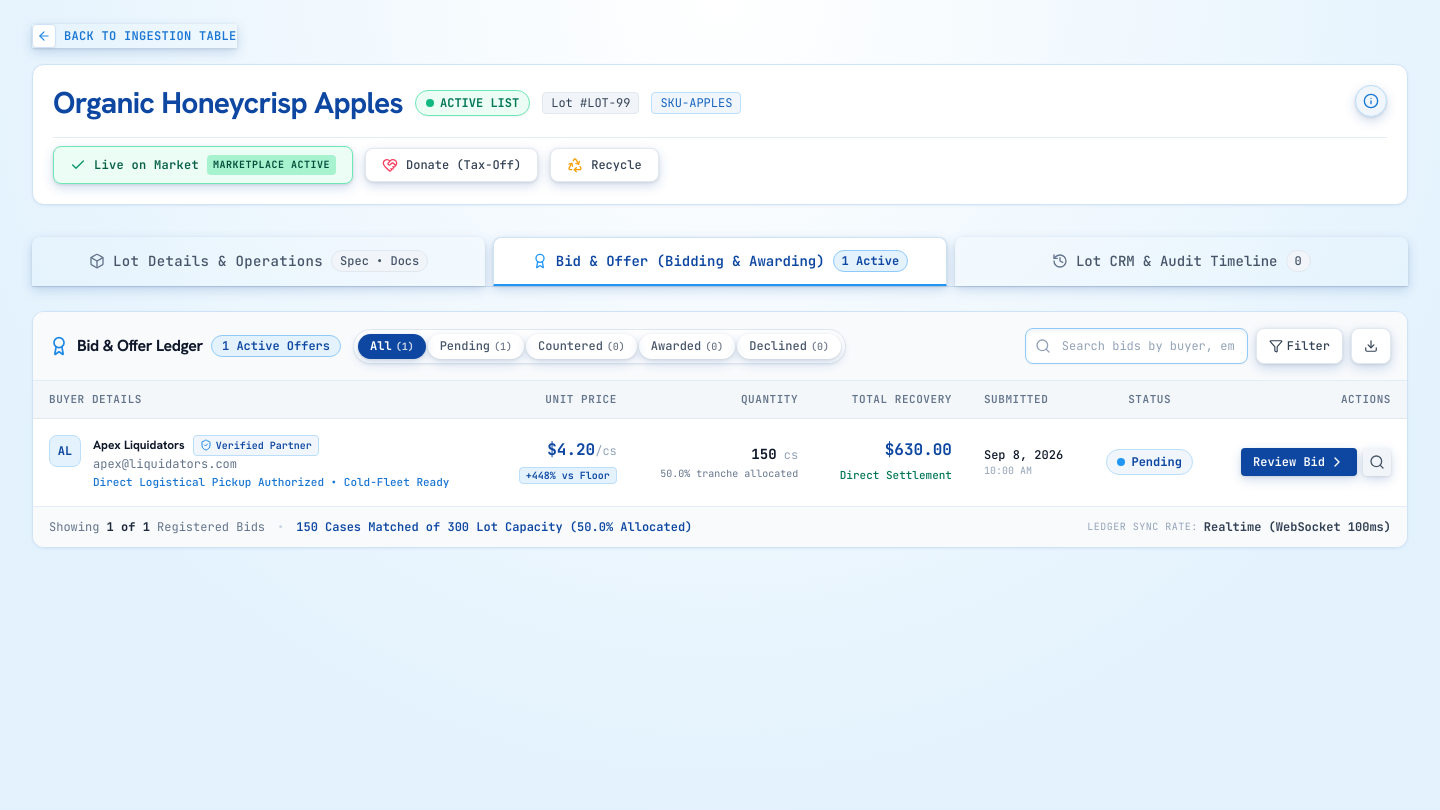
Test: Frontend Seam B: Bid Action Inspector & Decline Flow Integration (Issue #02) › opens Bid Action Inspector modal when bid row is clicked, executes decline flow, shows feedback toast, and updates bid row badge to Declined
This screenshot has width=1440, height=810.
Note: Click bid row to open inspector
Click the text "Apex Liquidators".
click(139, 445)  # box [93,437,185,453]
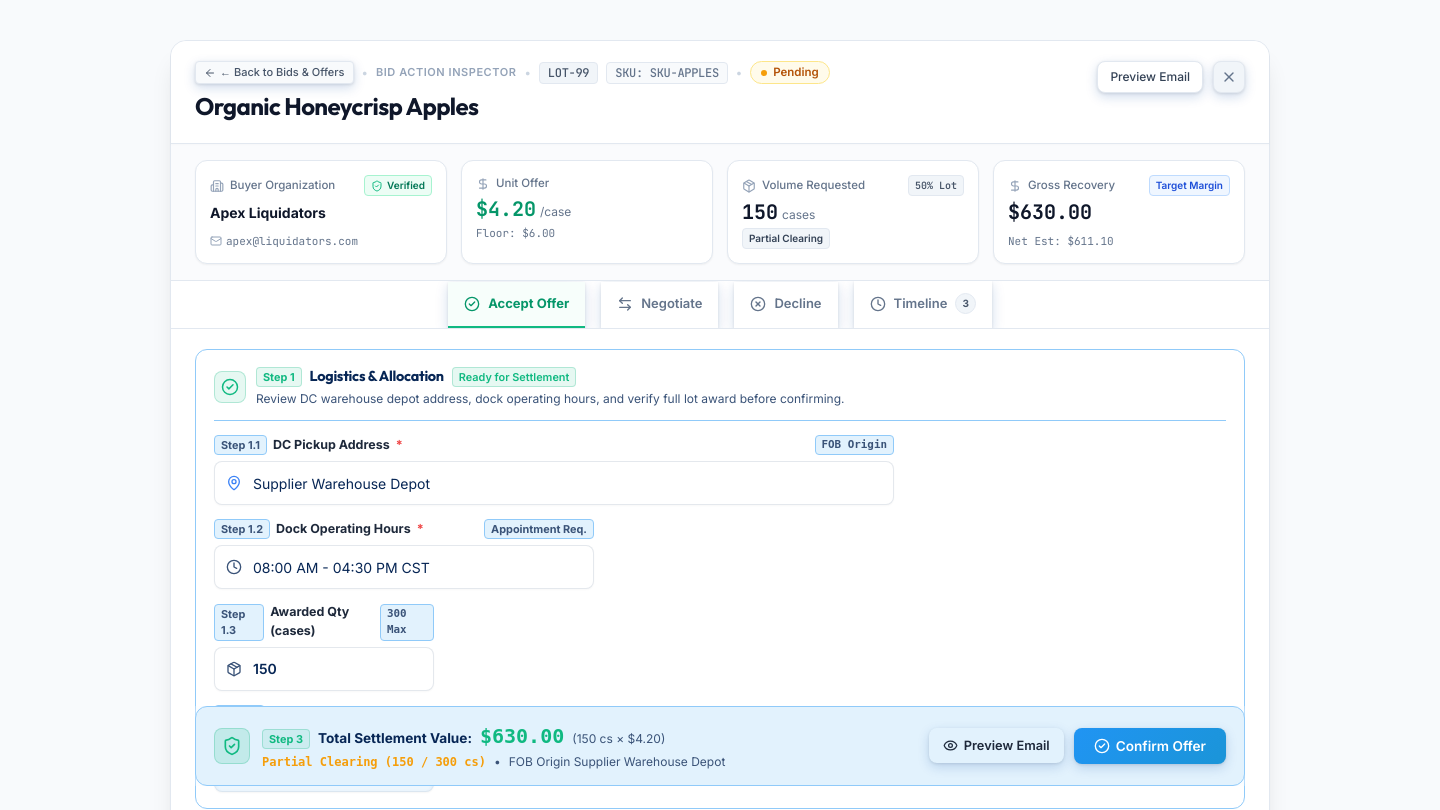
Result: the text "Bid Action Inspector" is shown at [376,64,516,81]
Note: Switch to Decline Offer mode
Click the button with aria-label "decline offer".
click(786, 305)  # box [734,282,838,328]
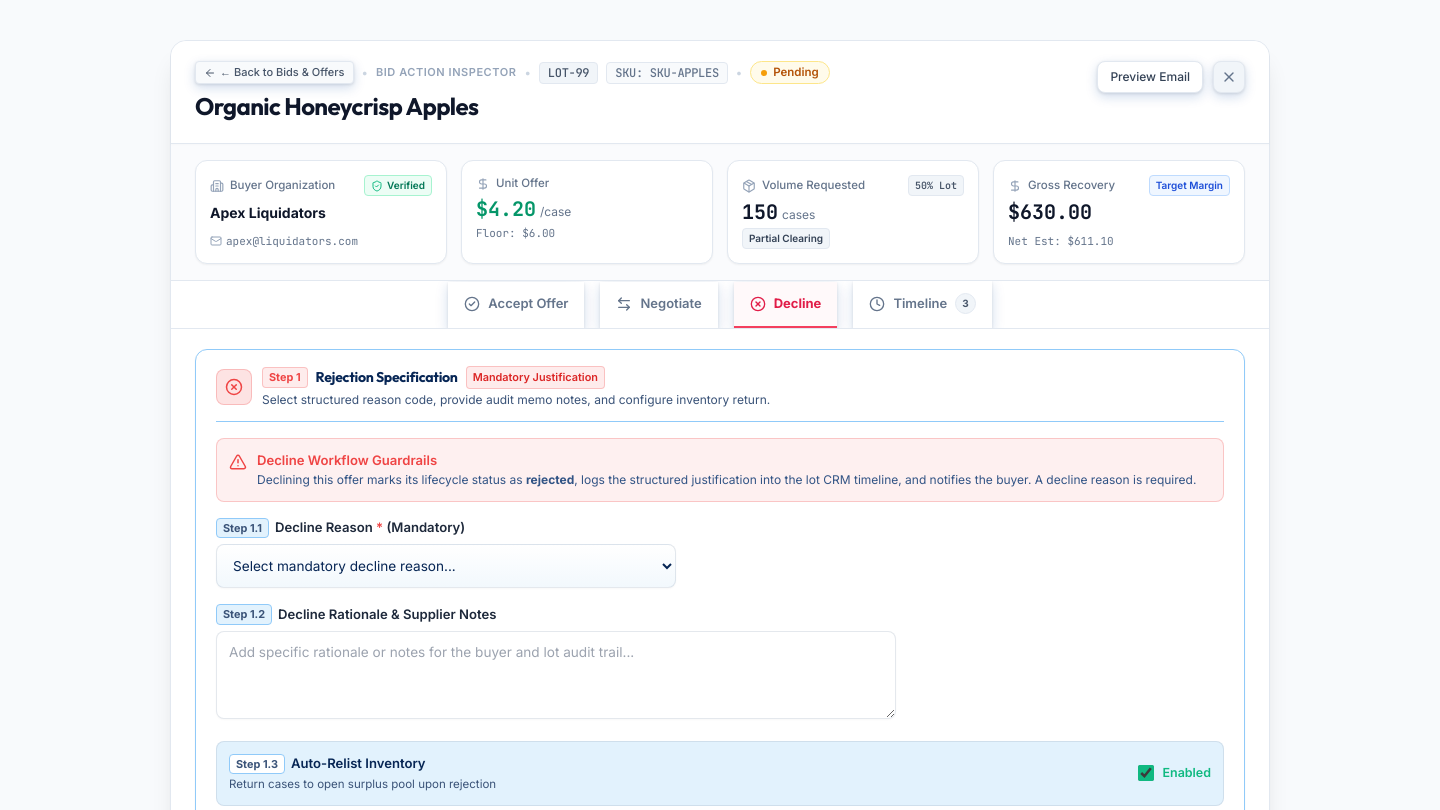
Note: Select reason
Select "Price below minimum recovery floor" in the dropdown labelled "Step 1.1 Decline Reason * (Mandatory)" at (446, 566), box [216,544,676,588]
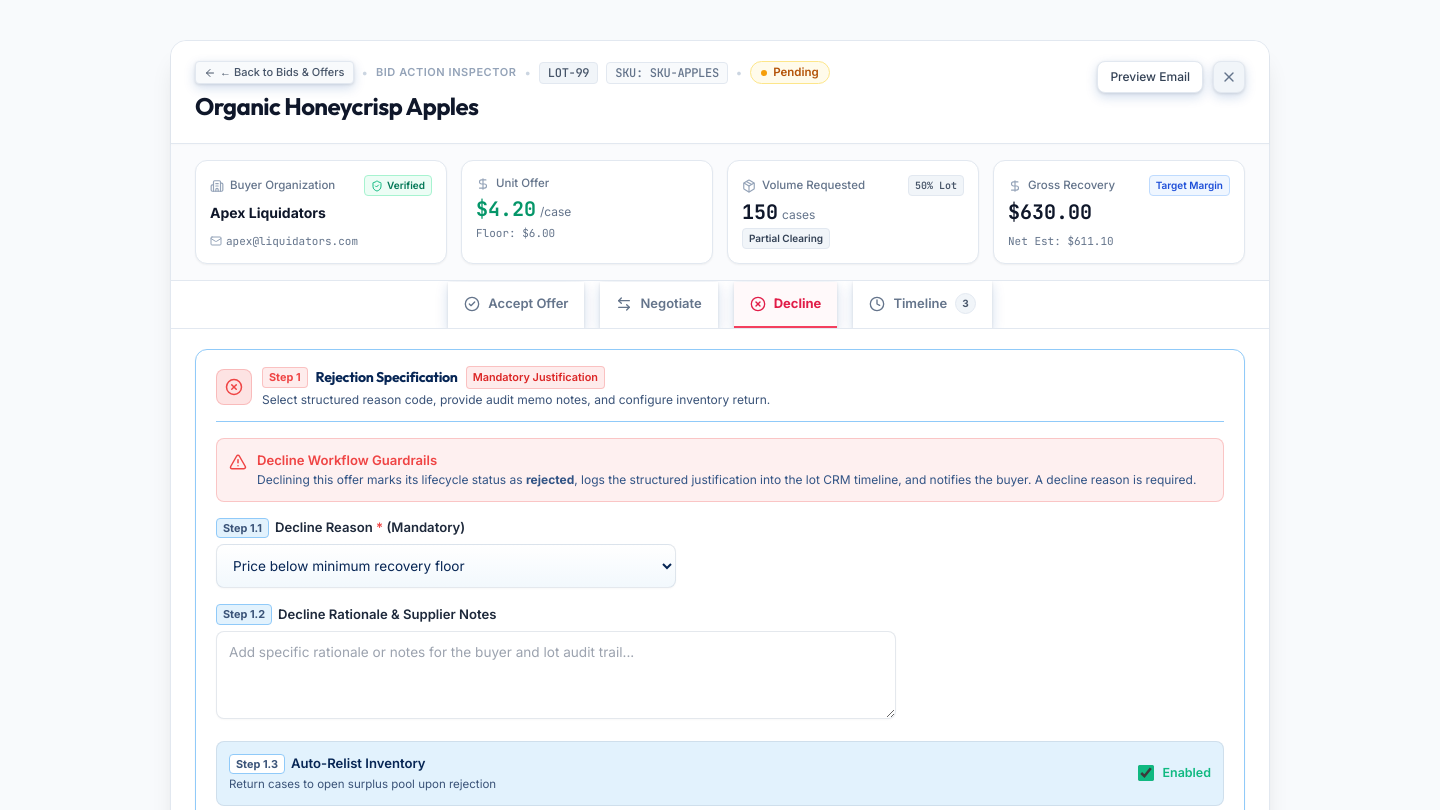
Note: Enter rationale notes
Replace the text in the text box with placeholder "Add specific rationale or notes" with "Counter-floor is $5.00/cs minimum." at (556, 675), box [216,631,896,719]
(page scrolled)
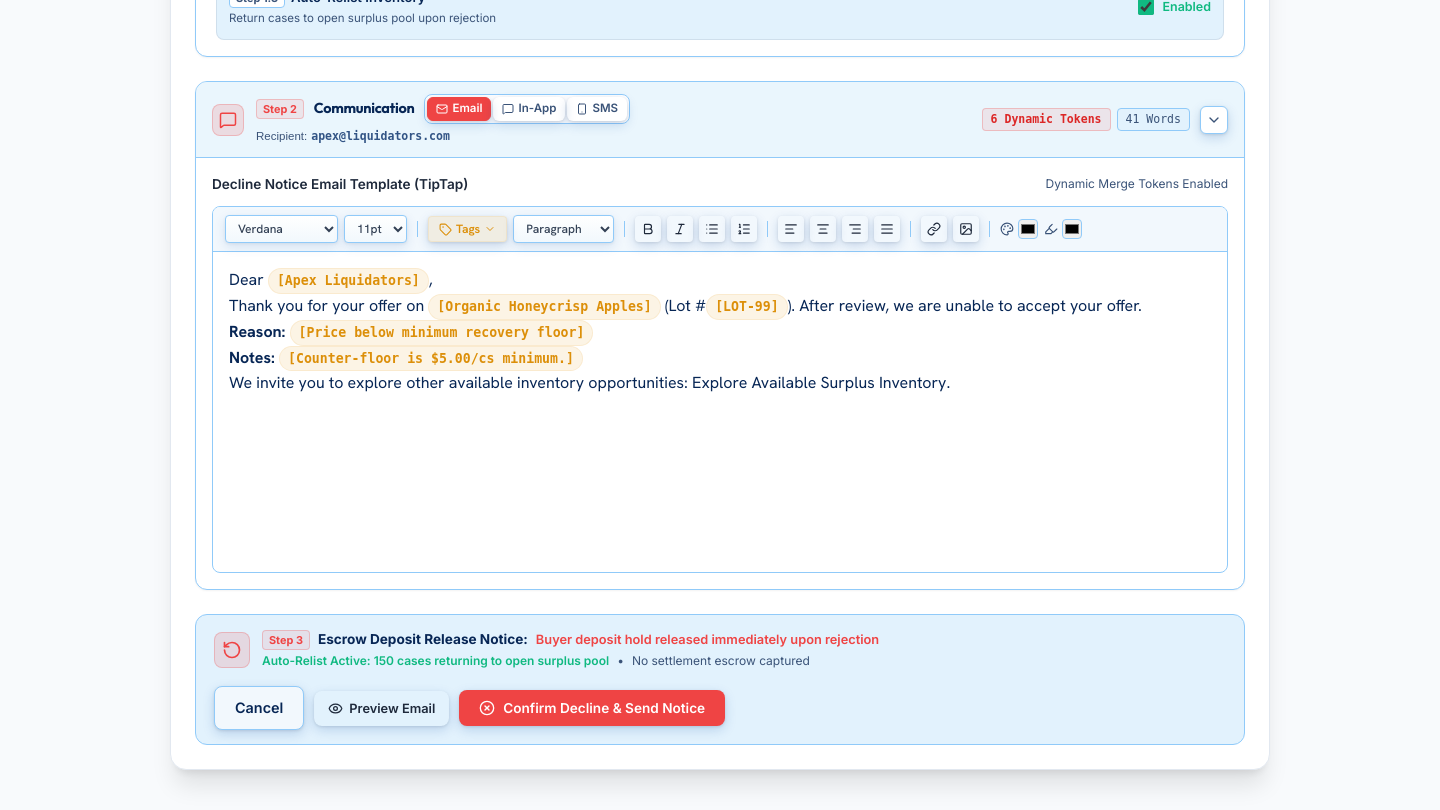
Result: the button "Confirm Decline & Send Notice" is enabled
Click the button "Confirm Decline & Send Notice".
click(592, 708)  # box [459,690,725,726]
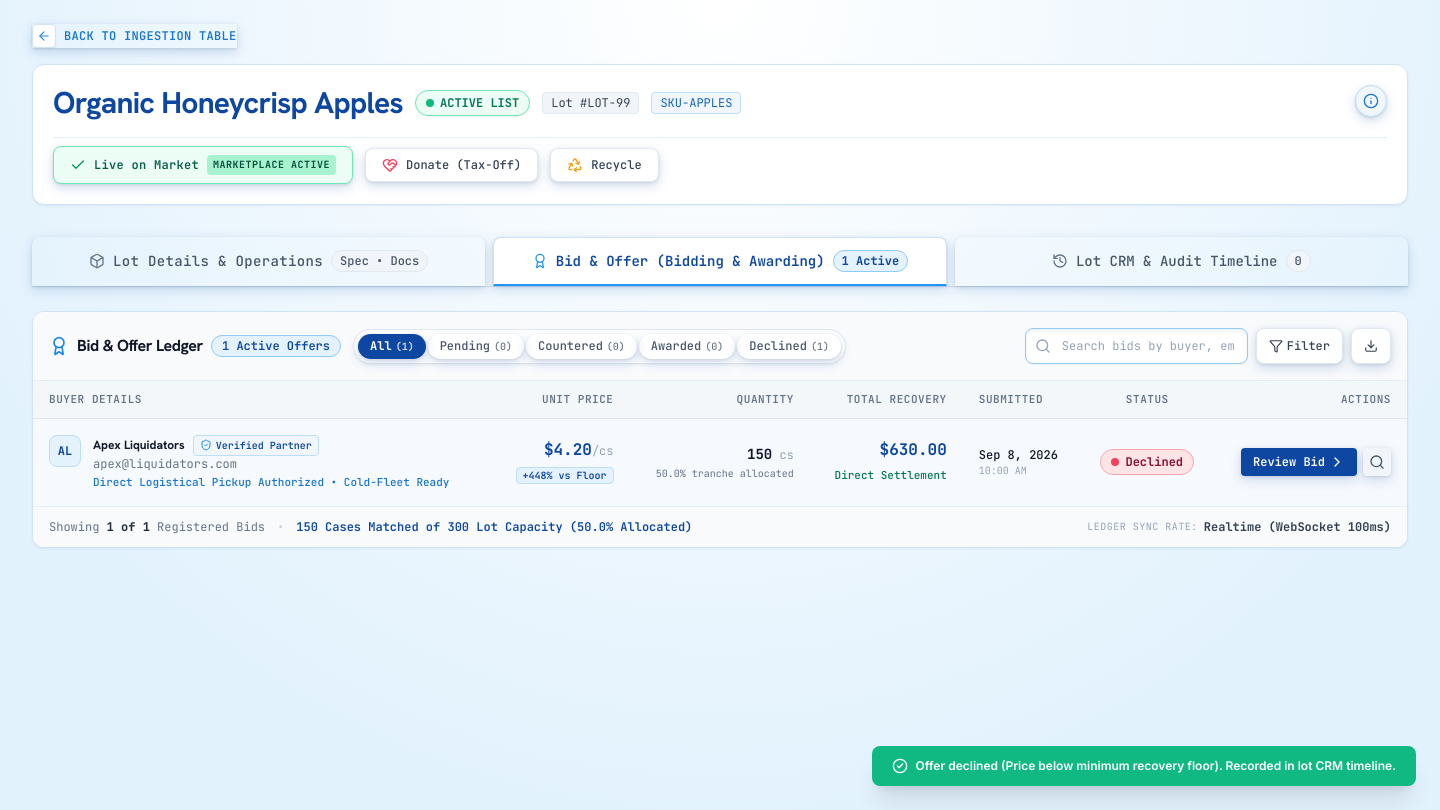
Result: the text "Offer declined" is shown at [916,758,1396,773]
